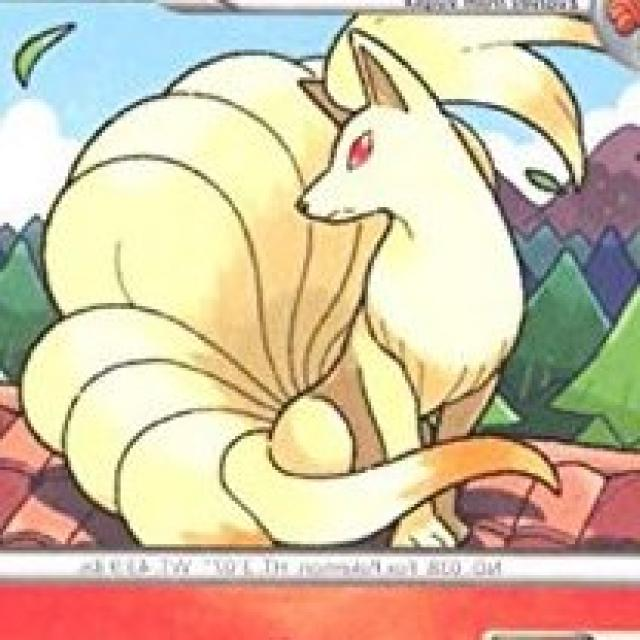Ninetales: (66, 51, 514, 540)
